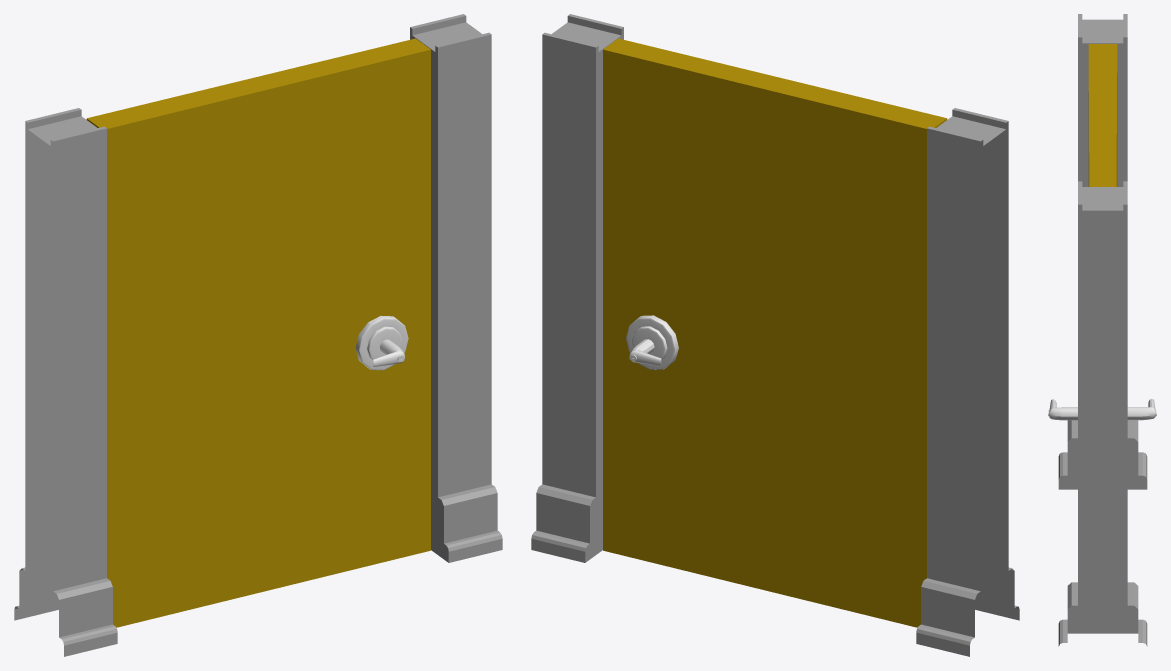
File: door.fbx
3 views of the same model, side by side, from view 1: azimuth 30°, elevation 25°; view 2: azimuth 150°, elevation 25°; view 3: azimuth 270°, elevation 25° (orthographic). The views are drawn at different scales.
Parts seen in each view (by area): view 1: door, trim, knob1; view 2: door, trim, knob2; view 3: trim, door, knob1, knob2.
Boxes of the visible parts, box(x1,y1,x2,y2) form: door: box(86, 38, 430, 627); trim: box(14, 14, 502, 656); knob1: box(355, 316, 408, 370); door: box(603, 38, 947, 627); trim: box(531, 14, 1019, 656); knob2: box(626, 315, 678, 369); trim: box(1058, 14, 1147, 646); door: box(1088, 44, 1117, 186); knob1: box(1048, 399, 1077, 420); knob2: box(1127, 398, 1156, 420).
Size of the model in its own units: 200 by 221 by 48.02.
